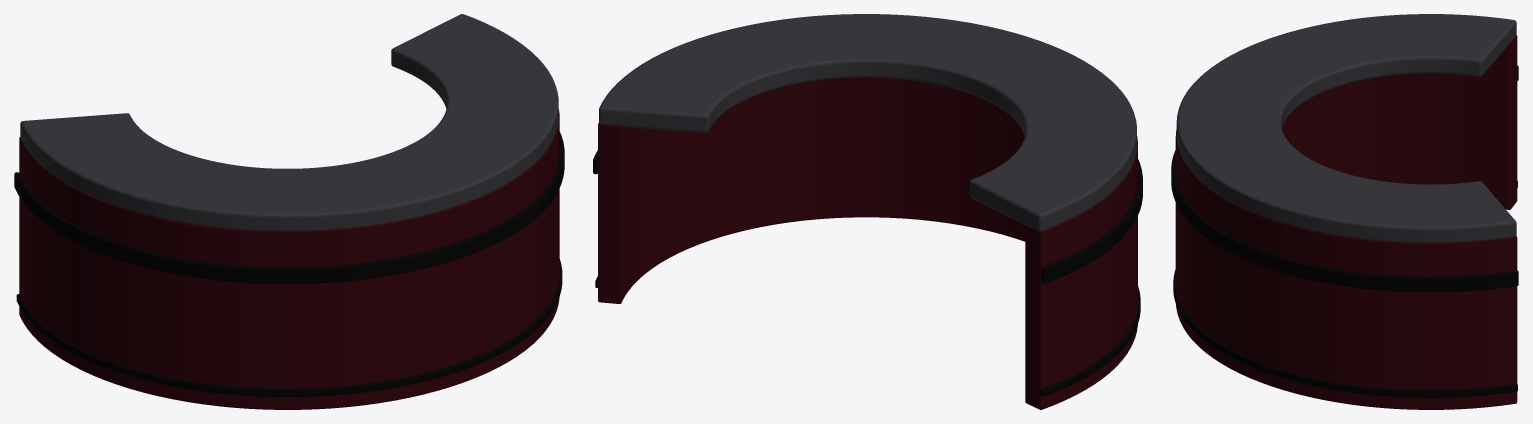
File: Table.fbx
3 renders of one model, left to right at view 1: azimuth 30°, elevation 25°; view 2: azimuth 150°, elevation 25°; view 3: azimuth 270°, elevation 25°, orthographic. The views are drawn at different scales.
Parts seen in each view (by area): view 1: Main Curved Counter, Main Worktop, Police Blue Accent, Lower Blue Accent; view 2: Main Curved Counter, Main Worktop, Police Blue Accent, Lower Blue Accent; view 3: Main Curved Counter, Main Worktop, Police Blue Accent, Lower Blue Accent.
Part boxes in pixels (<box>): Main Curved Counter: <box>19,109,559,409</box>; Main Worktop: <box>20,14,558,230</box>; Police Blue Accent: <box>14,132,564,283</box>; Lower Blue Accent: <box>16,259,562,396</box>; Main Curved Counter: <box>598,77,1137,409</box>; Main Worktop: <box>599,14,1136,231</box>; Police Blue Accent: <box>593,150,1142,283</box>; Lower Blue Accent: <box>595,276,1140,396</box>; Main Curved Counter: <box>1175,35,1517,409</box>; Main Worktop: <box>1176,14,1516,242</box>; Police Blue Accent: <box>1171,65,1518,292</box>; Lower Blue Accent: <box>1173,181,1517,397</box>.
Bounding box in the file's own units: 275 × 107 × 184.
